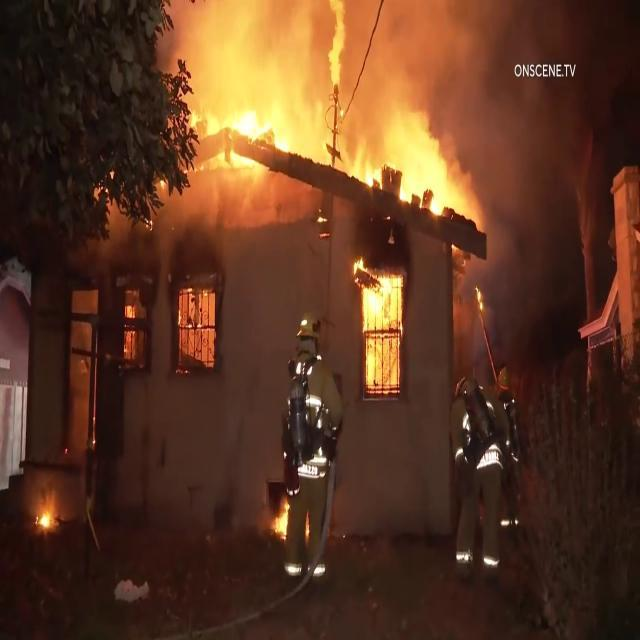Fire: (217, 111, 448, 220), (179, 282, 216, 392), (368, 284, 398, 392), (128, 296, 142, 355), (275, 496, 291, 540), (38, 494, 50, 534)
Smoke: (463, 0, 622, 380), (173, 2, 454, 94)
